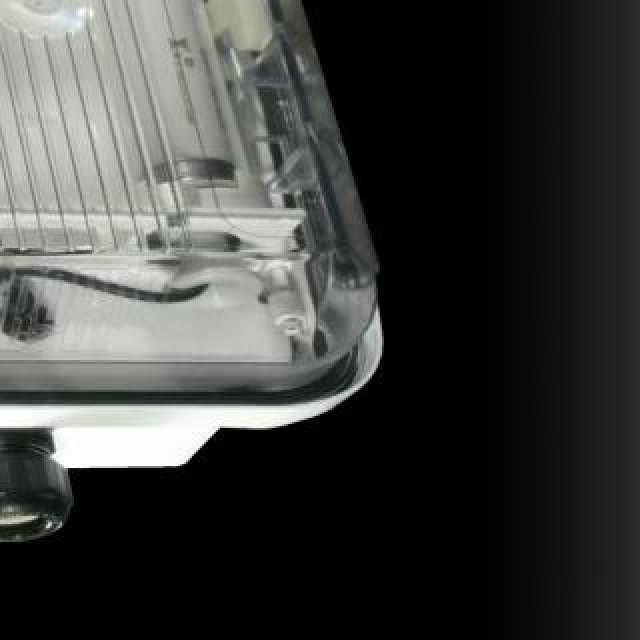fluorescent tube: (0, 0, 270, 224)
